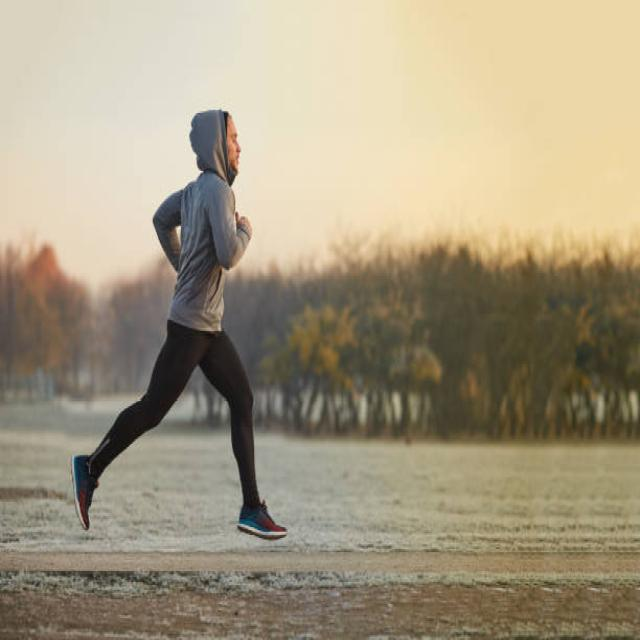Person: (70, 110, 288, 545)
